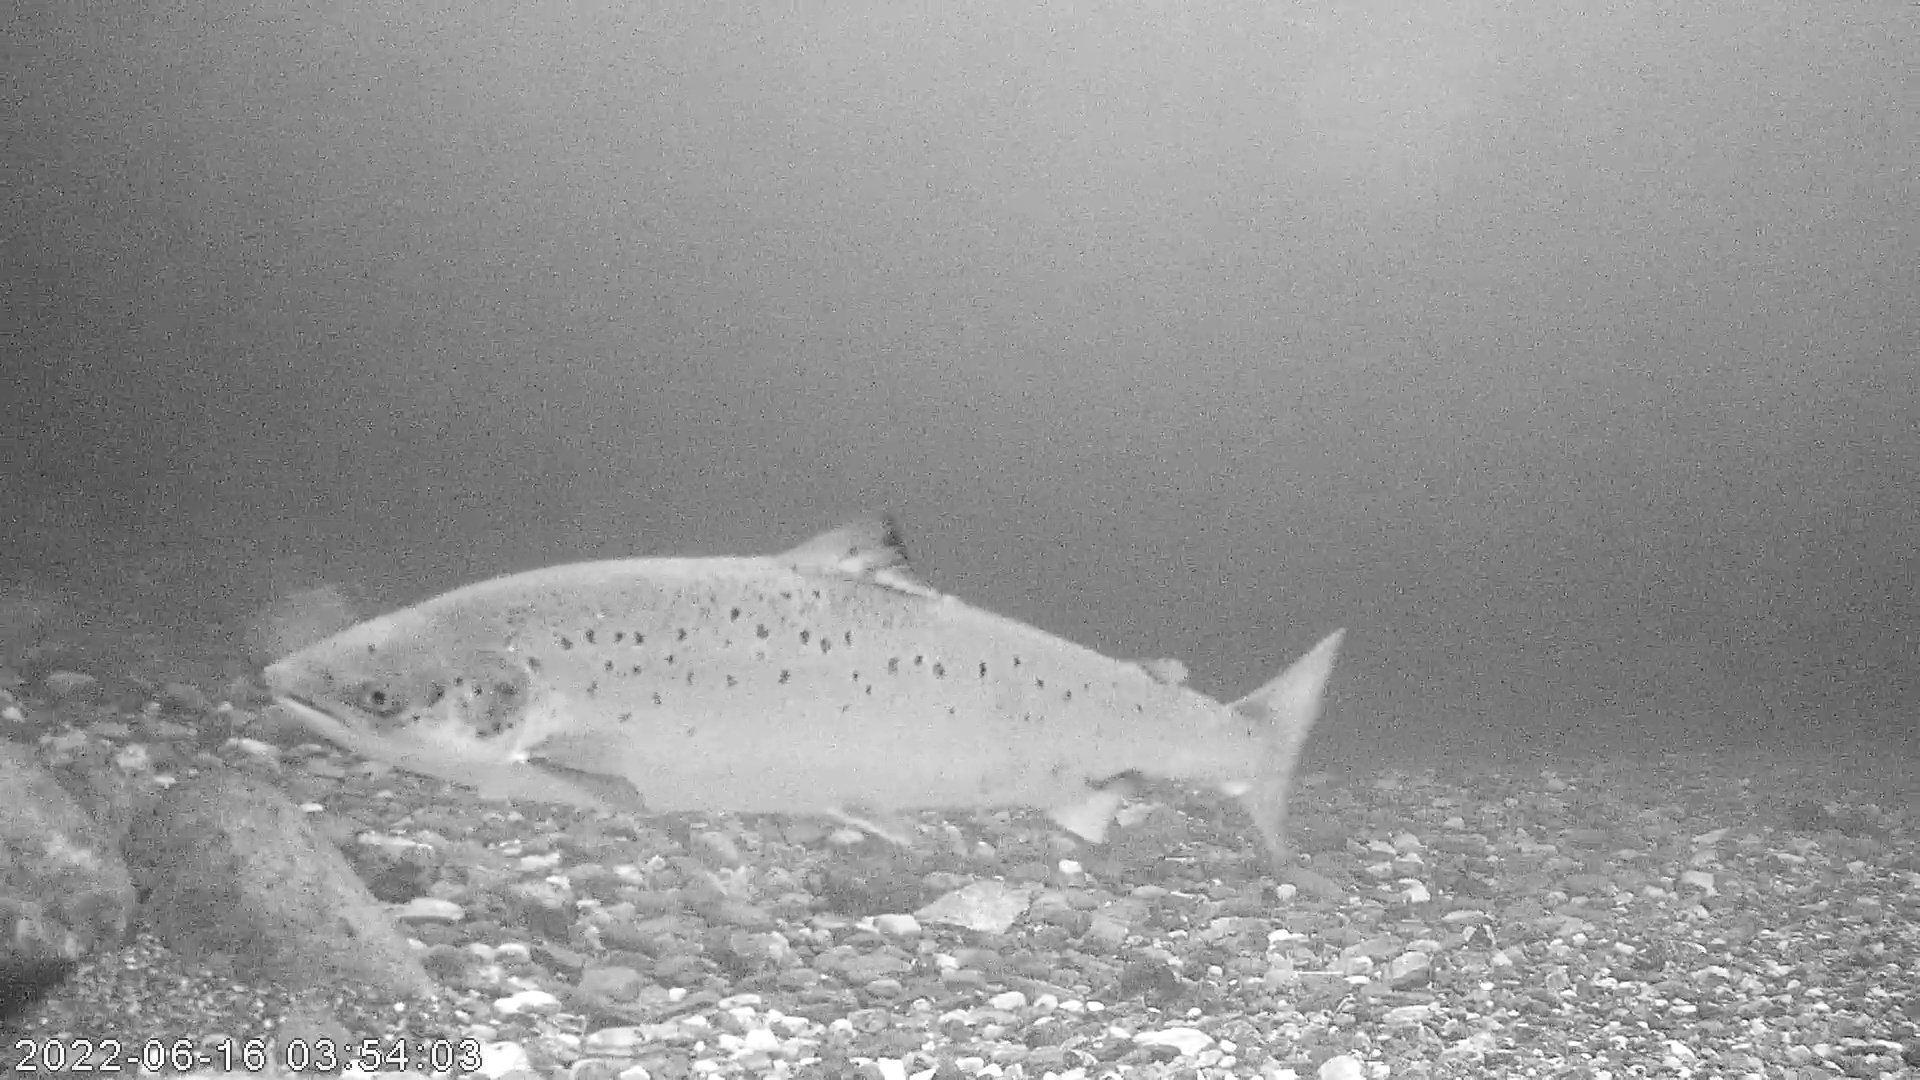salmon: (255, 508, 1346, 857)
